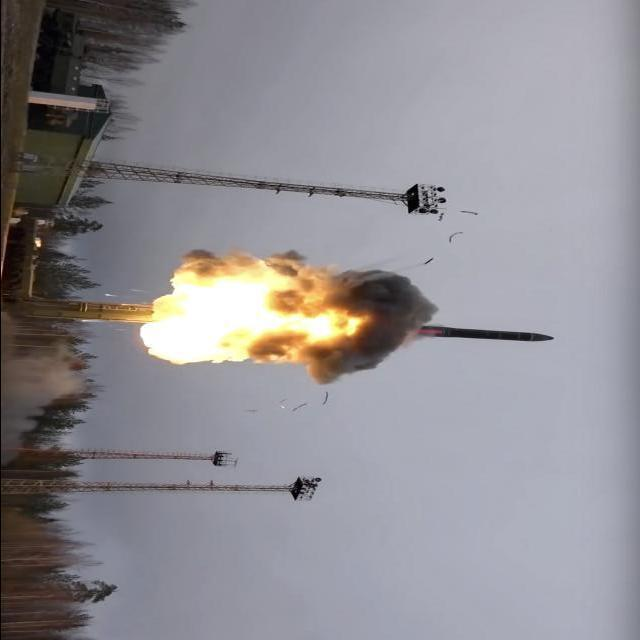missile: (390, 313, 557, 361)
